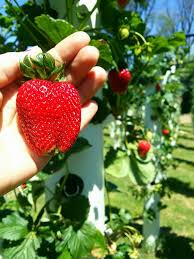ripe: (11, 69, 89, 171), (112, 61, 131, 93), (136, 138, 151, 154)
